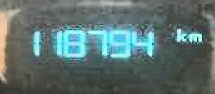1: (30, 29, 40, 55), (53, 30, 60, 54)
4: (128, 29, 152, 55)
7: (85, 29, 106, 55)
8: (62, 29, 83, 56)
9: (107, 29, 128, 56)
X: (173, 26, 185, 41), (186, 32, 200, 40)
